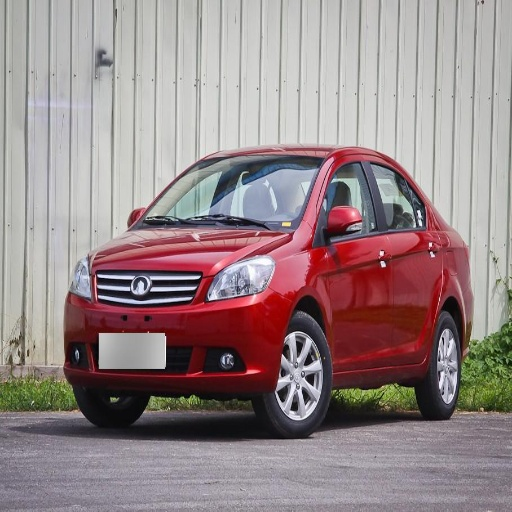front_bumper: (64, 265, 291, 394)
front_glass: (133, 156, 321, 229)
front_left_door: (319, 153, 393, 368)
trunk: (435, 231, 476, 317)
